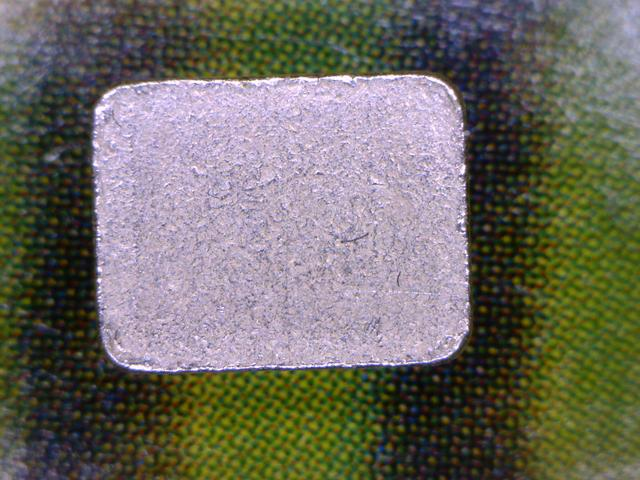ok: (86, 71, 479, 368)
